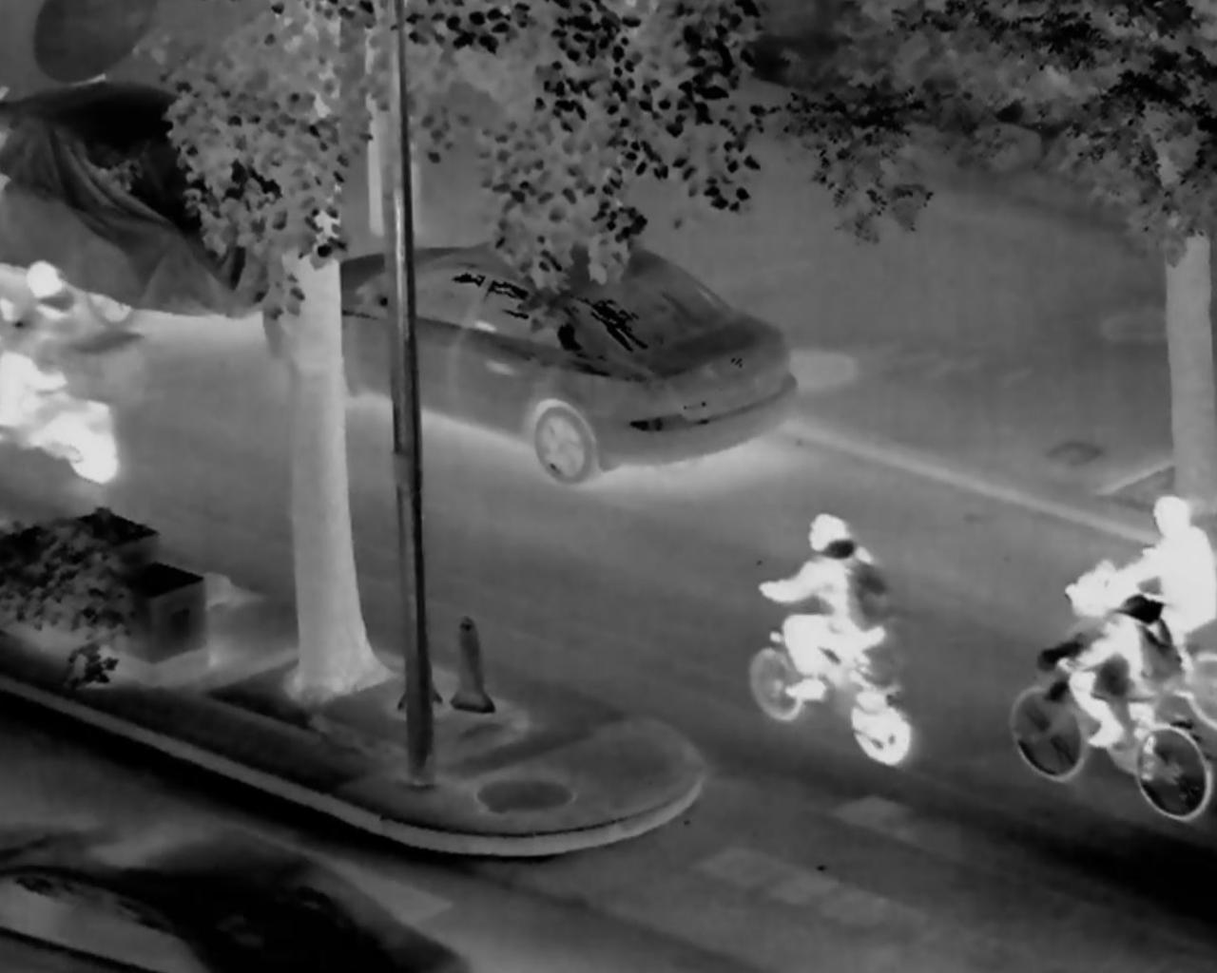person: (760, 512, 891, 698), (1058, 570, 1181, 749), (1110, 495, 1216, 671)
